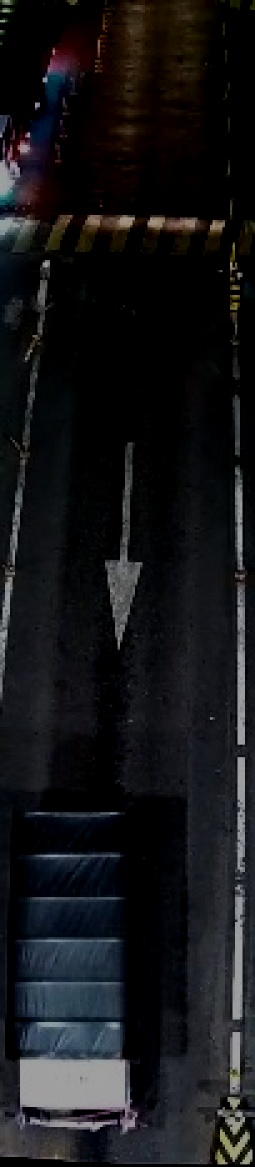truck: (2, 790, 144, 1145)
